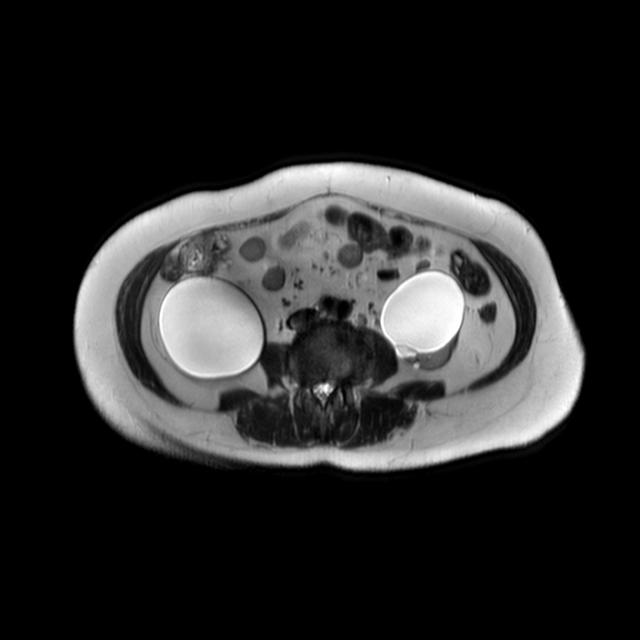sag: (158, 275, 265, 382)
sol: (382, 269, 466, 370)
